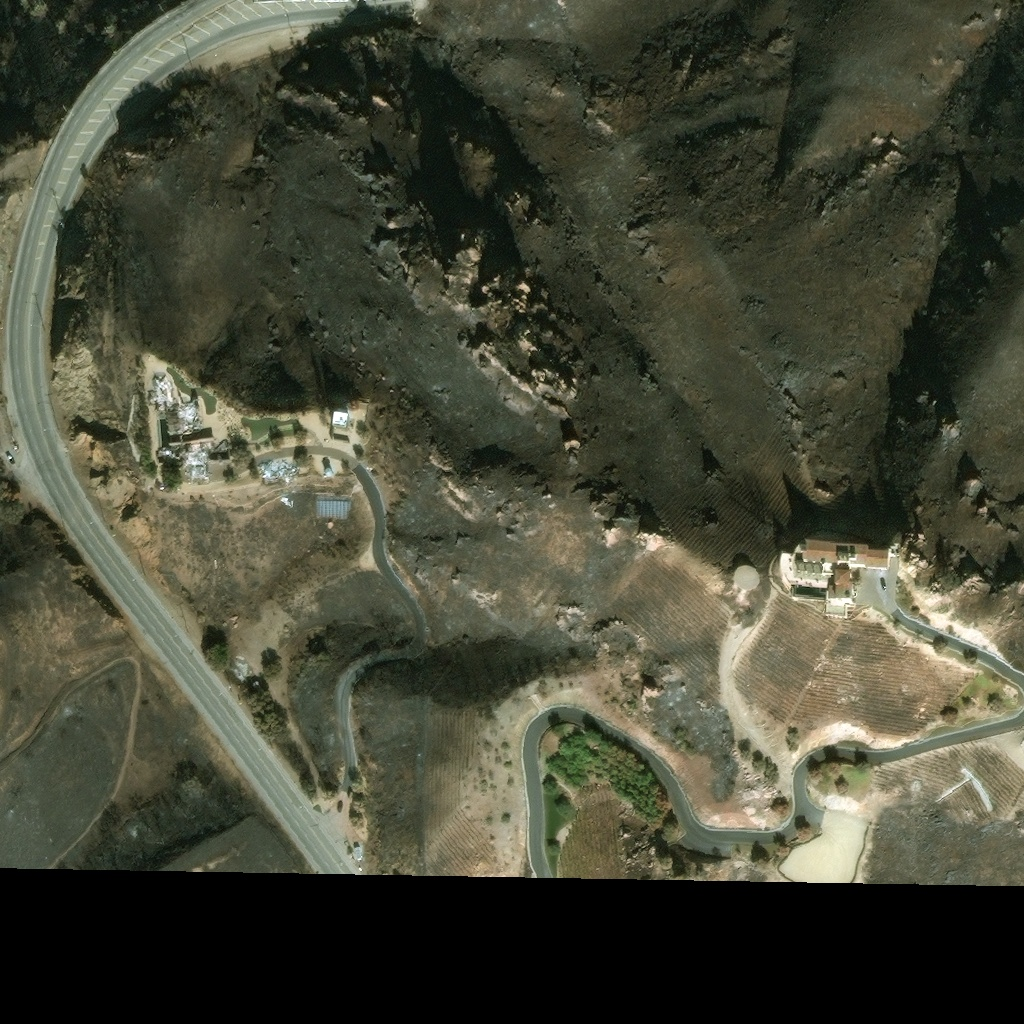0 no-damage: (801, 538, 893, 568), (830, 568, 852, 598), (735, 564, 760, 590), (333, 410, 349, 427)
1 minor-damage: (323, 466, 333, 476)
3 destroyed: (162, 446, 230, 475), (167, 398, 200, 431), (146, 375, 173, 407), (317, 499, 351, 515), (264, 461, 292, 477), (187, 431, 197, 439), (180, 432, 186, 440)
